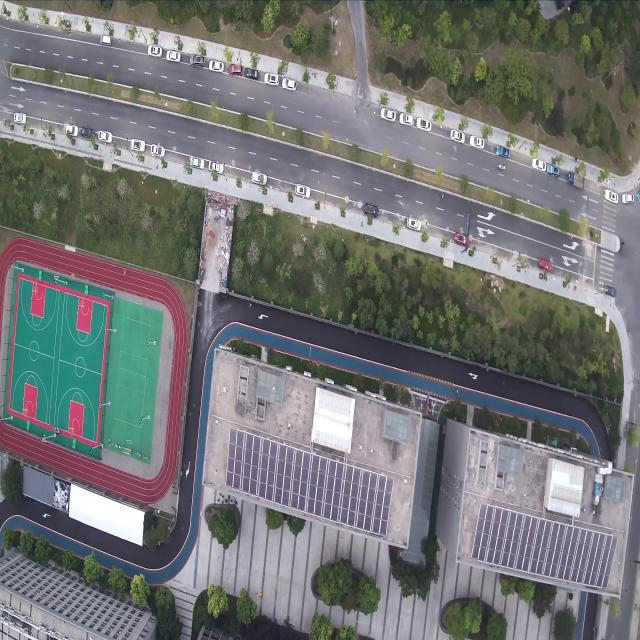UAV: (249, 302, 252, 307)
